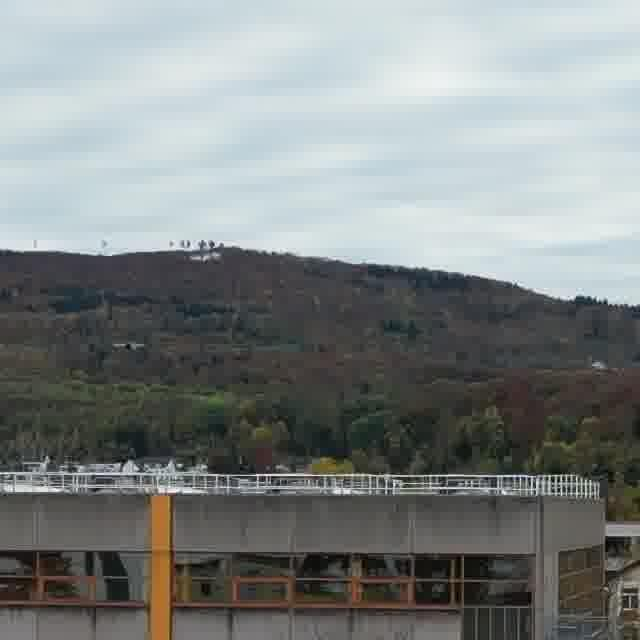Drohne: (113, 342, 144, 349)
